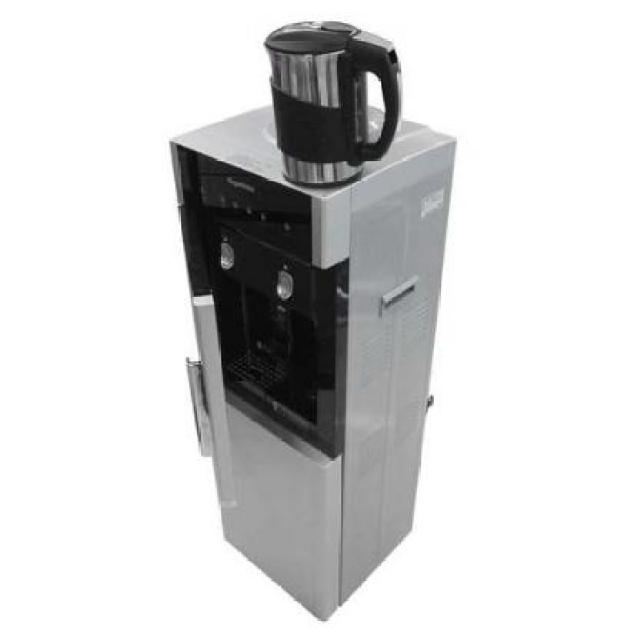cooler: (158, 83, 457, 629)
